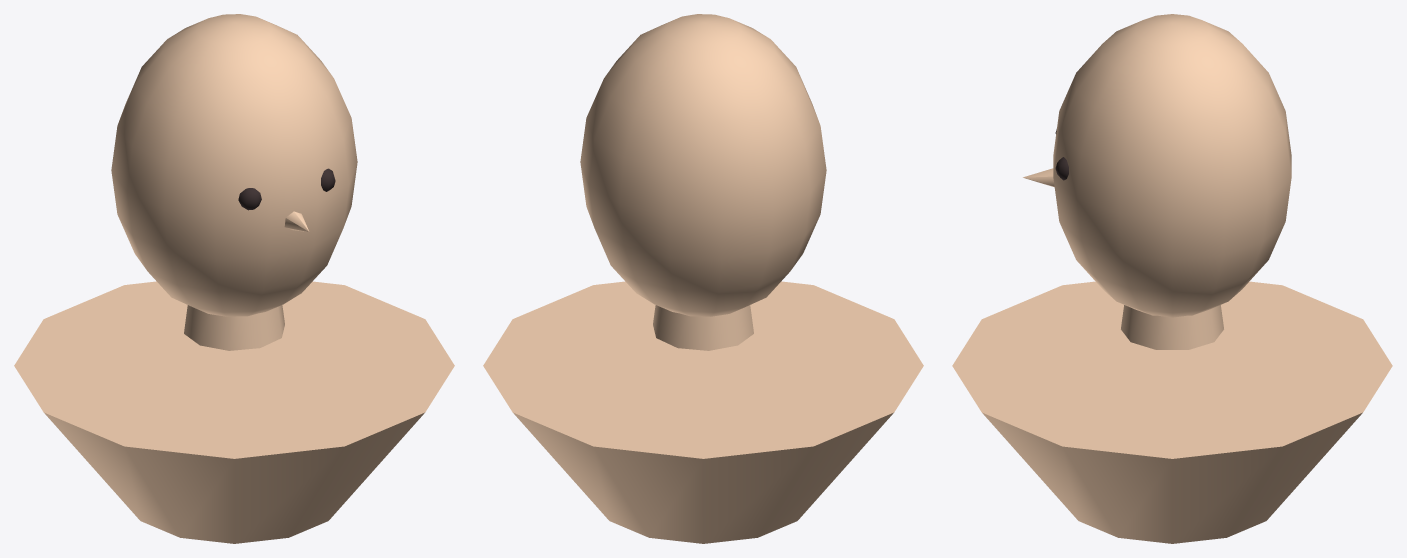
The model's file is portrait16m_001.glb.
3 renders of one model, left to right at view 1: azimuth 30°, elevation 25°; view 2: azimuth 150°, elevation 25°; view 3: azimuth 270°, elevation 25°, orthographic.
Bounding box in the file's own units: 1.79 × 2.13 × 1.79.
